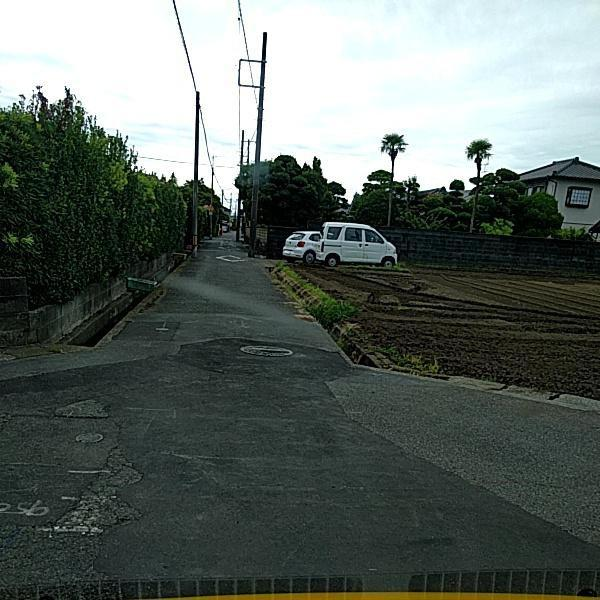pothole: (49, 441, 146, 534)
